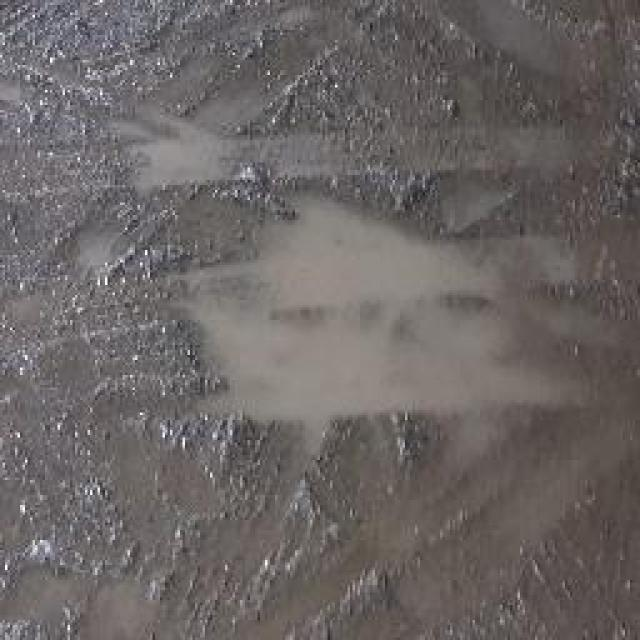stagnation: (170, 189, 593, 441)
